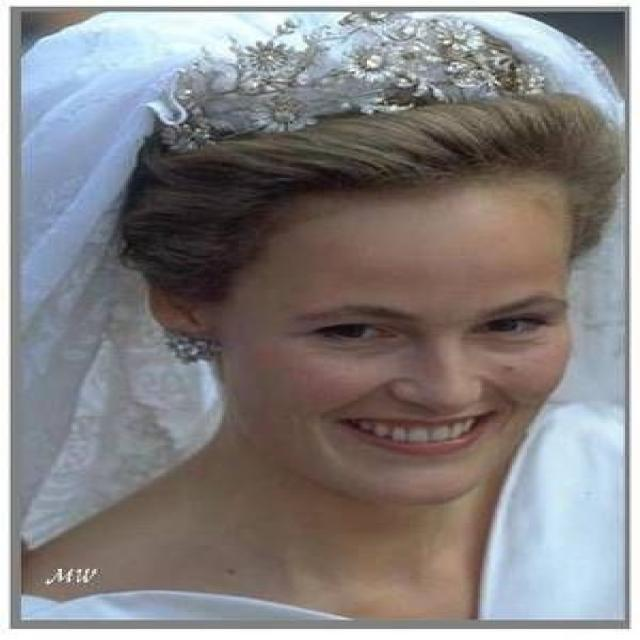Earring: (164, 323, 228, 373)
